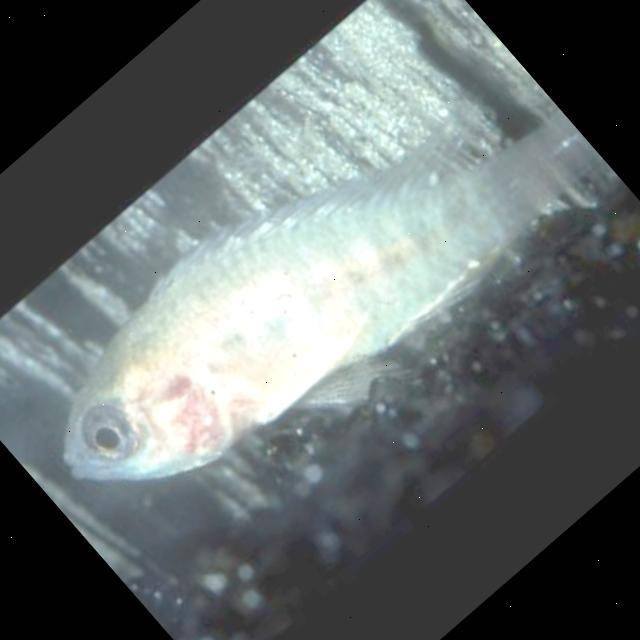Flavobacterium -Bacterial Gill Disease-: (62, 109, 603, 479), (64, 110, 590, 480)
